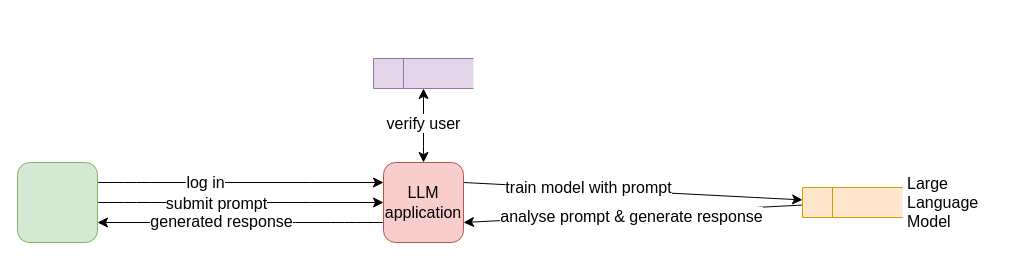
The diagram is 1027 pixels wide and 260 high, and some of its shapes have lost their labels. The box of each missing label's shape, as (x1, y1, x2, y2) in pixels:
Accounts Database: (372, 58, 474, 88)
External User: (16, 162, 98, 242)
